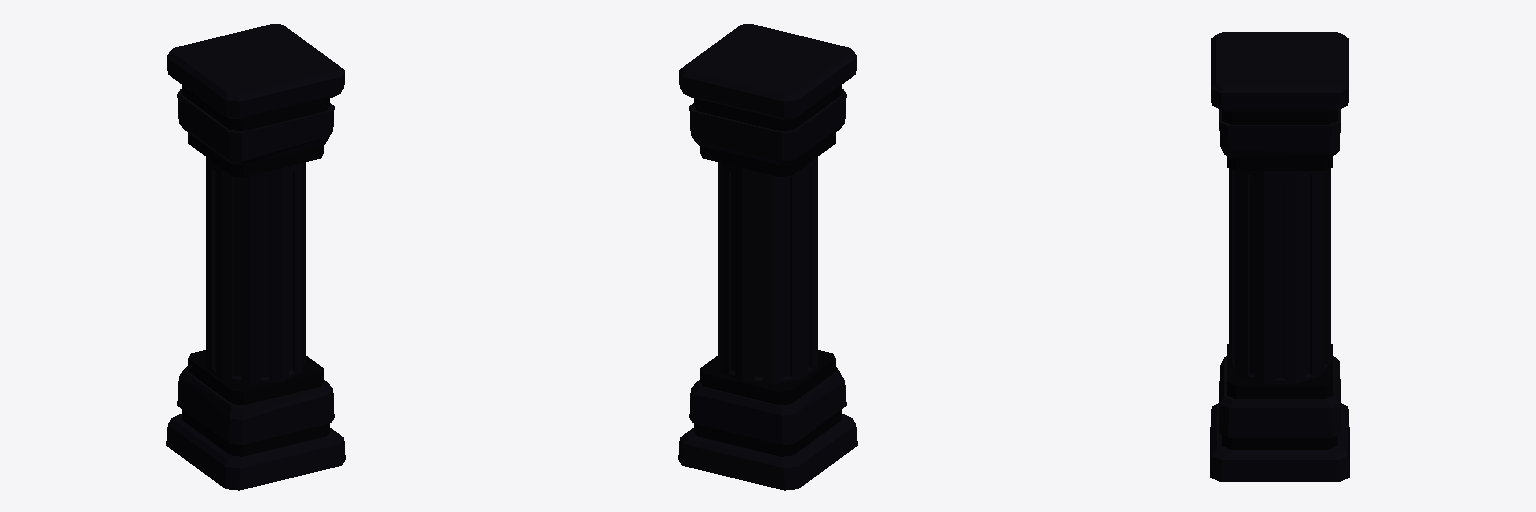
File: Column2.obj
3 renders of one model, left to right at view 1: azimuth 30°, elevation 25°; view 2: azimuth 150°, elevation 25°; view 3: azimuth 270°, elevation 25°, orthographic.
Parts seen in each view (by area): view 1: Column2_Cube.081; view 2: Column2_Cube.081; view 3: Column2_Cube.081.
Boxes of the visible parts, x1=… form: Column2_Cube.081: x1=166, y1=24, x2=345, y2=490; Column2_Cube.081: x1=678, y1=24, x2=857, y2=490; Column2_Cube.081: x1=1210, y1=32, x2=1349, y2=481.
Bounding box in the file's own units: 1.3 × 4.07 × 1.3.